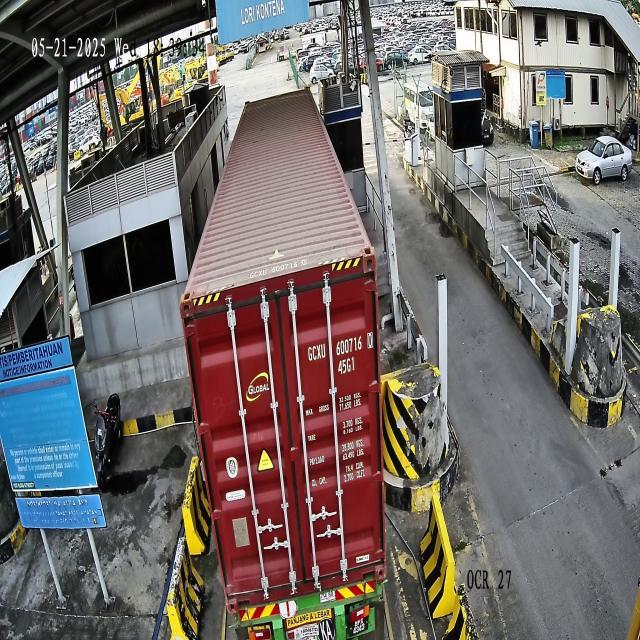ISO: (338, 356, 356, 376)
container_number: (306, 331, 373, 364)
